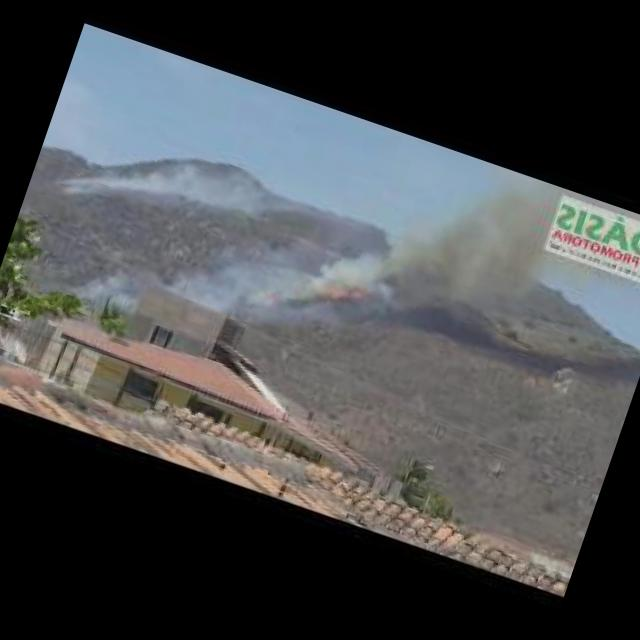fire: (326, 278, 350, 304)
smoke: (359, 144, 572, 354)
